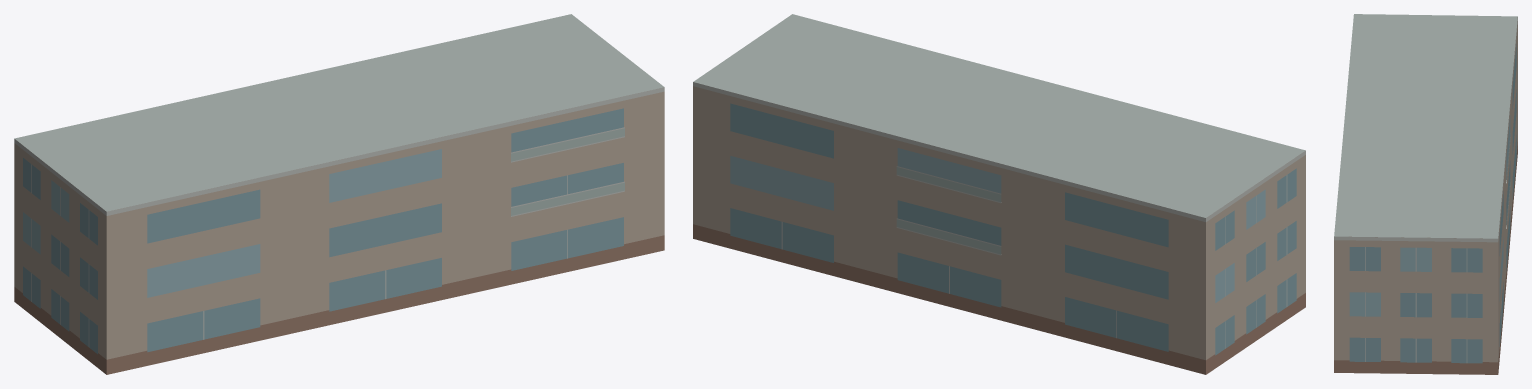
The model's file is survey-upis-32624707.glb.
3 renders of one model, left to right at view 1: azimuth 30°, elevation 25°; view 2: azimuth 150°, elevation 25°; view 3: azimuth 270°, elevation 25°, orthographic. The views are drawn at different scales.
Visible parts, largest first — view 1: survey-upis-32624707.tmp; view 2: survey-upis-32624707.tmp; view 3: survey-upis-32624707.tmp.
Part boxes in pixels (x1=…): survey-upis-32624707.tmp: x1=14, y1=14, x2=664, y2=374; survey-upis-32624707.tmp: x1=693, y1=14, x2=1305, y2=374; survey-upis-32624707.tmp: x1=1334, y1=14, x2=1517, y2=374.
Bounding box in the file's own units: 32.36 × 9.15 × 11.2.
